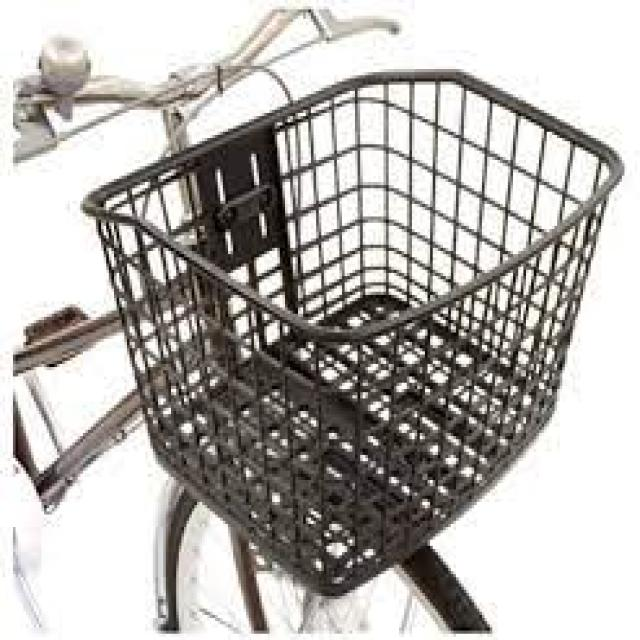basket: (80, 68, 626, 596)
